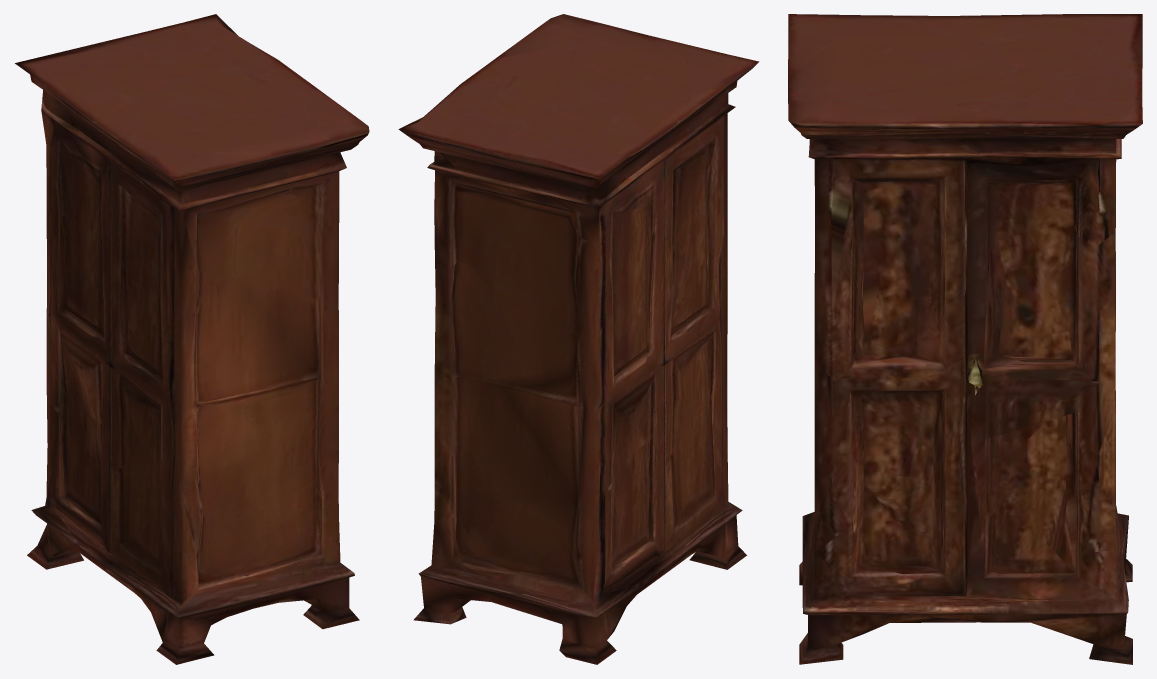
Rendered from armario.glb.
3 renders of one model, left to right at view 1: azimuth 30°, elevation 25°; view 2: azimuth 150°, elevation 25°; view 3: azimuth 270°, elevation 25°, orthographic. The views are drawn at different scales.
Parts seen in each view (by area): view 1: tripo_node_53ac4acb-a3b4-4800-a10f-0474e7d21bc0; view 2: tripo_node_53ac4acb-a3b4-4800-a10f-0474e7d21bc0; view 3: tripo_node_53ac4acb-a3b4-4800-a10f-0474e7d21bc0.
Part boxes in pixels (x1,y1,x2,y2): tripo_node_53ac4acb-a3b4-4800-a10f-0474e7d21bc0: (15, 14, 369, 664); tripo_node_53ac4acb-a3b4-4800-a10f-0474e7d21bc0: (398, 14, 759, 664); tripo_node_53ac4acb-a3b4-4800-a10f-0474e7d21bc0: (788, 14, 1142, 664).
Bounding box in the file's own units: 0.4301 × 0.9998 × 0.5877.
Materials: 1 (1 with a texture image).
